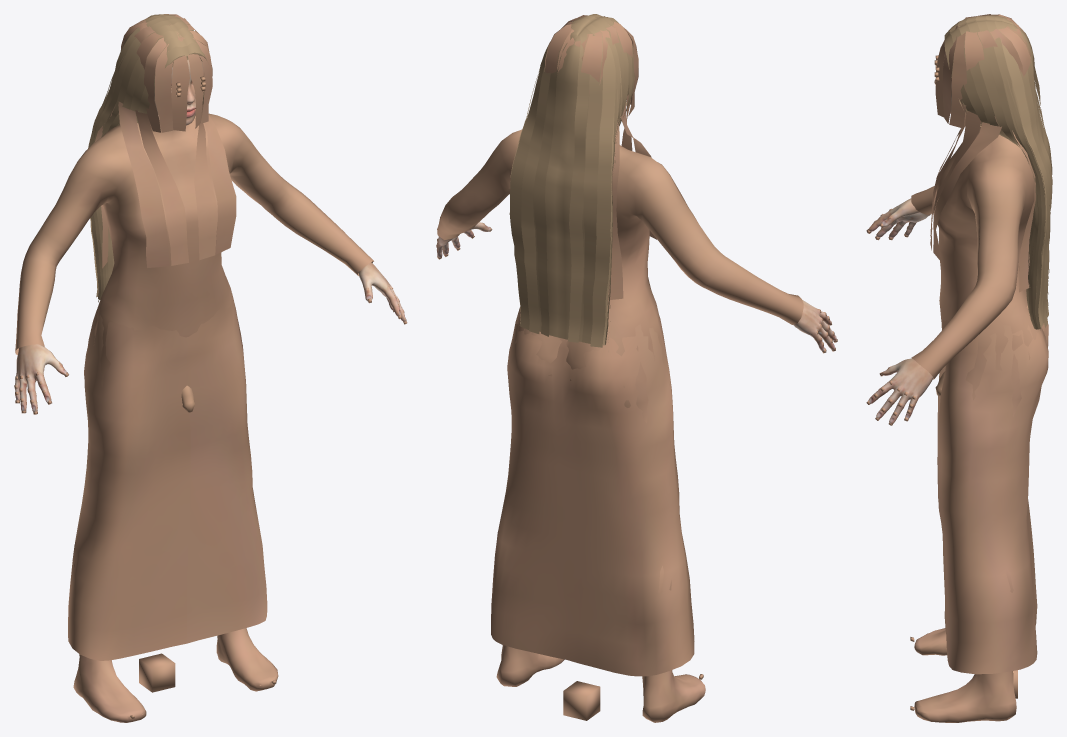
The model's file is laura-2-native-fullbody.glb.
3 views of the same model, side by side, from view 1: azimuth 30°, elevation 25°; view 2: azimuth 150°, elevation 25°; view 3: azimuth 270°, elevation 25° (orthographic). The views are drawn at different scales.
Parts seen in each view (by area): view 1: Laura native MPFB head, Laura native MPFB head.long01; view 2: Laura native MPFB head, Laura native MPFB head.long01; view 3: Laura native MPFB head, Laura native MPFB head.long01.
Boxes of the visible parts, <box> form: Laura native MPFB head: <box>14,14,407,722</box>; Laura native MPFB head.long01: <box>88,14,207,302</box>; Laura native MPFB head: <box>436,15,837,722</box>; Laura native MPFB head.long01: <box>509,14,635,347</box>; Laura native MPFB head: <box>866,14,1048,722</box>; Laura native MPFB head.long01: <box>944,15,1052,329</box>.
Bounding box in the file's own units: 0.8973 × 1.5 × 0.3758.
Materials: 2 (1 with a texture image).
